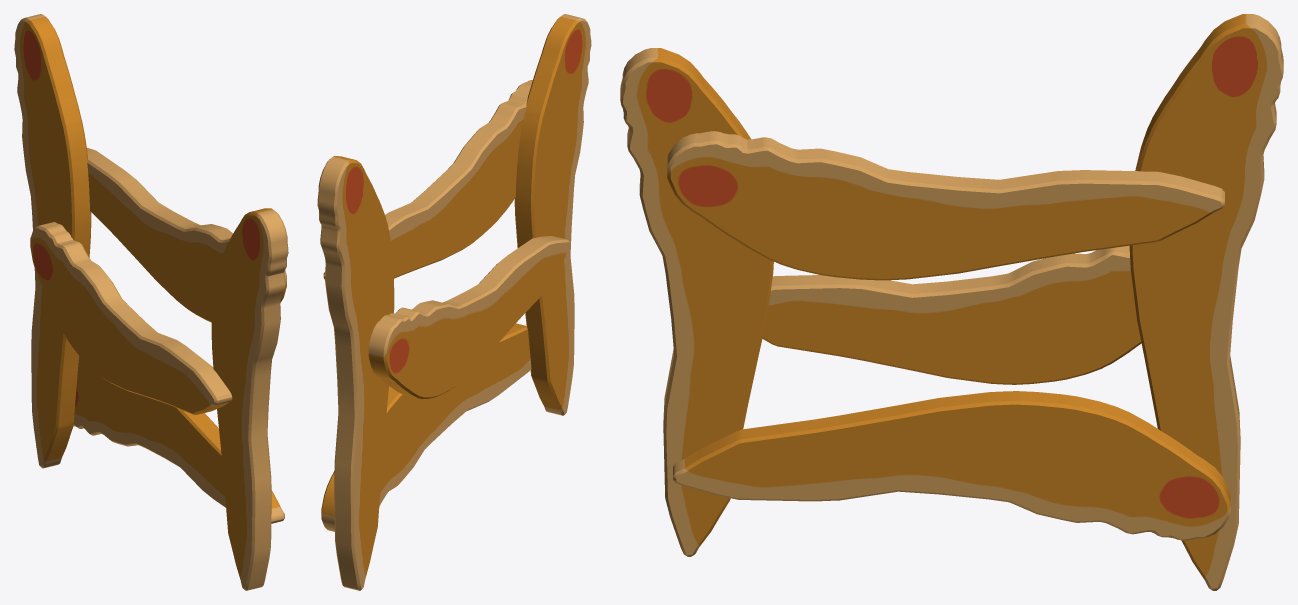
File: seed fence.fbx
The picture shows the model from 3 angles, left to right: view 1: azimuth 30°, elevation 25°; view 2: azimuth 150°, elevation 25°; view 3: azimuth 270°, elevation 25°; orthographic projection. The views are drawn at different scales.
Visible parts, largest first — view 1: Seed_01, Seed_02, Seed_05, Seed_003, Seed_004; view 2: Seed_02, Seed_01, Seed_05, Seed_003, Seed_004; view 3: Seed_003, Seed_004, Seed_02, Seed_05, Seed_01.
Part boxes in pixels (bbox=[...]): Seed_01: bbox=[211, 208, 288, 590]; Seed_02: bbox=[14, 14, 91, 468]; Seed_05: bbox=[30, 222, 232, 414]; Seed_003: bbox=[87, 148, 286, 322]; Seed_004: bbox=[73, 356, 284, 523]; Seed_02: bbox=[317, 156, 394, 590]; Seed_01: bbox=[514, 14, 591, 415]; Seed_05: bbox=[368, 236, 570, 398]; Seed_003: bbox=[323, 80, 532, 279]; Seed_004: bbox=[321, 323, 531, 531]; Seed_003: bbox=[667, 131, 1224, 280]; Seed_004: bbox=[673, 391, 1230, 540]; Seed_02: bbox=[1129, 14, 1283, 590]; Seed_05: bbox=[762, 245, 1141, 384]; Seed_01: bbox=[620, 48, 773, 556].
Bounding box in the file's own units: 0.5592 × 4.39 × 4.65.
1 material, 1 textured.
